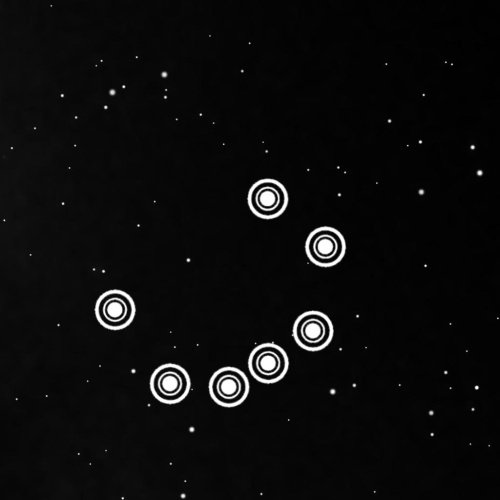corona_borealis: (88, 171, 353, 411)
